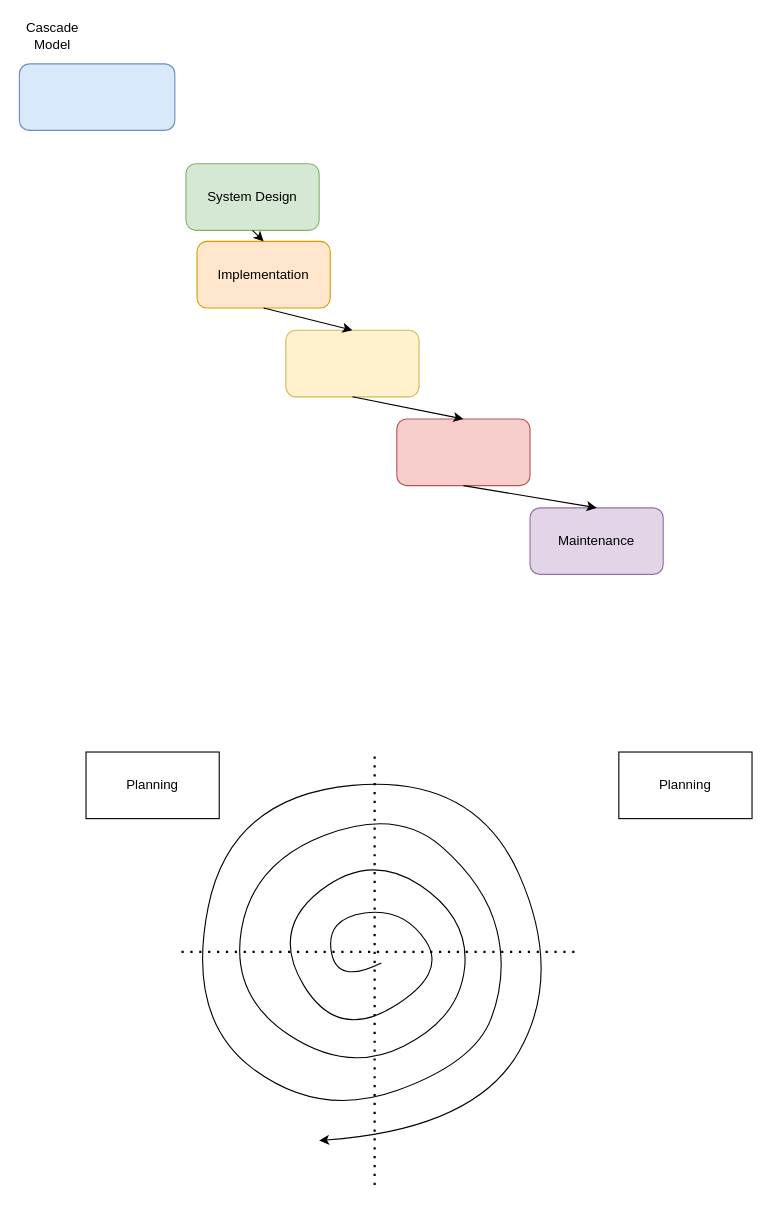
Some shapes in this 771 by 1205 pixel diagram are drawn without their labels. The centre of each missing label's shape, as x and y in pixels:
"Development" belongs at (463,452).
"Requirement Analysis" belongs at (96,96).
"Testing" belongs at (352,363).
